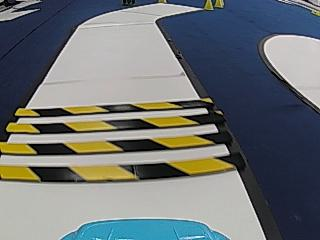bump: (4, 93, 235, 191)
